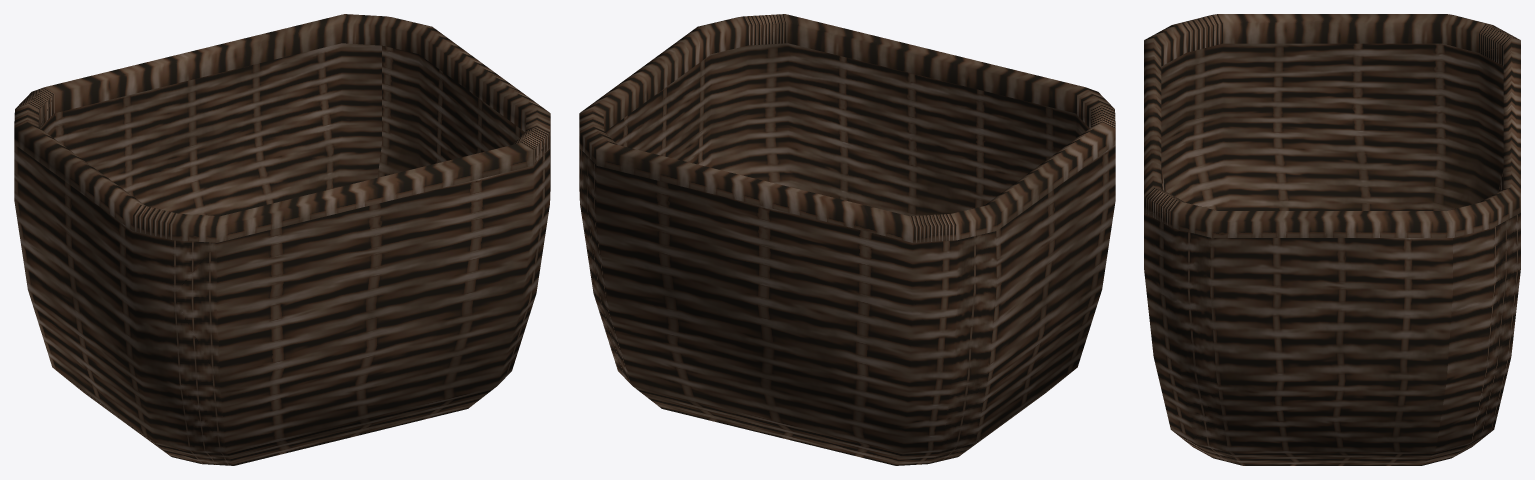
File: basket_3.FBX
The picture shows the model from 3 angles, left to right: view 1: azimuth 30°, elevation 25°; view 2: azimuth 150°, elevation 25°; view 3: azimuth 270°, elevation 25°; orthographic projection.
Parts seen in each view (by area): view 1: mesh004; view 2: mesh004; view 3: mesh004.
Part boxes in pixels (x1,y1,x2,y2): mesh004: (14,14,550,465); mesh004: (579,14,1115,465); mesh004: (1144,14,1520,465).
Bounding box in the file's own units: 92.38 × 70.93 × 57.45.
